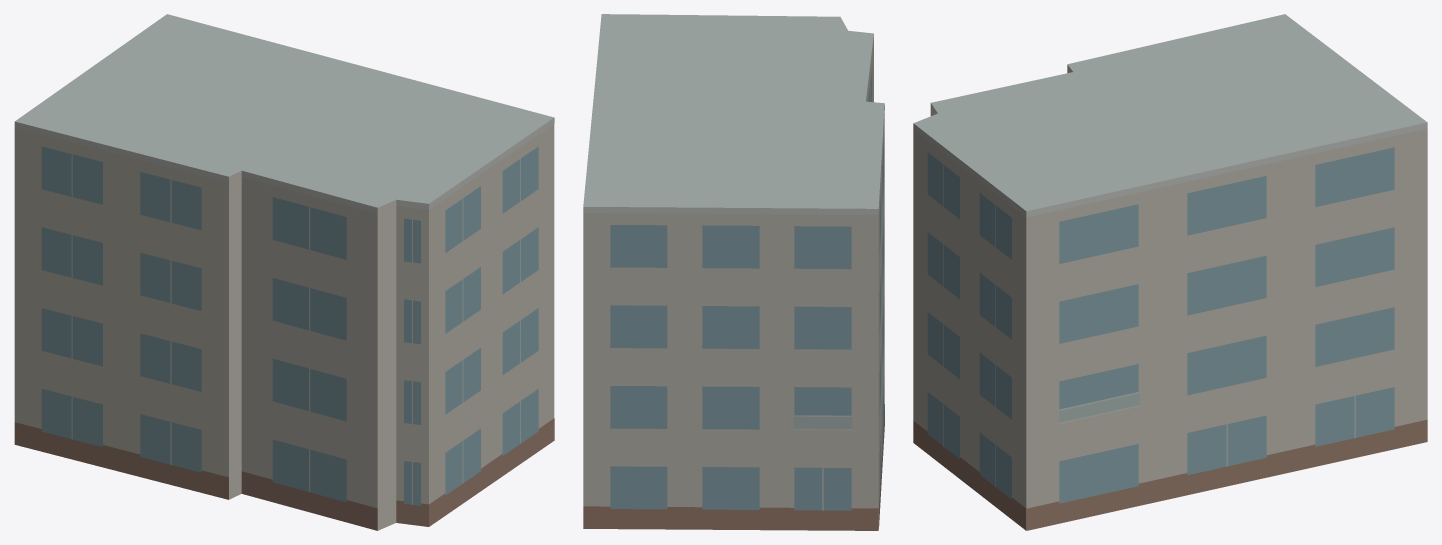
Rendered from survey-upis-32803942.glb.
3 renders of one model, left to right at view 1: azimuth 30°, elevation 25°; view 2: azimuth 150°, elevation 25°; view 3: azimuth 270°, elevation 25°, orthographic.
Parts seen in each view (by area): view 1: survey-upis-32803942.tmp; view 2: survey-upis-32803942.tmp; view 3: survey-upis-32803942.tmp.
Boxes of the visible parts, <box> form: survey-upis-32803942.tmp: <box>14,14,554,530</box>; survey-upis-32803942.tmp: <box>583,14,884,530</box>; survey-upis-32803942.tmp: <box>913,14,1427,530</box>.
Size of the model in its own units: 16.96 by 12.8 by 18.68.
